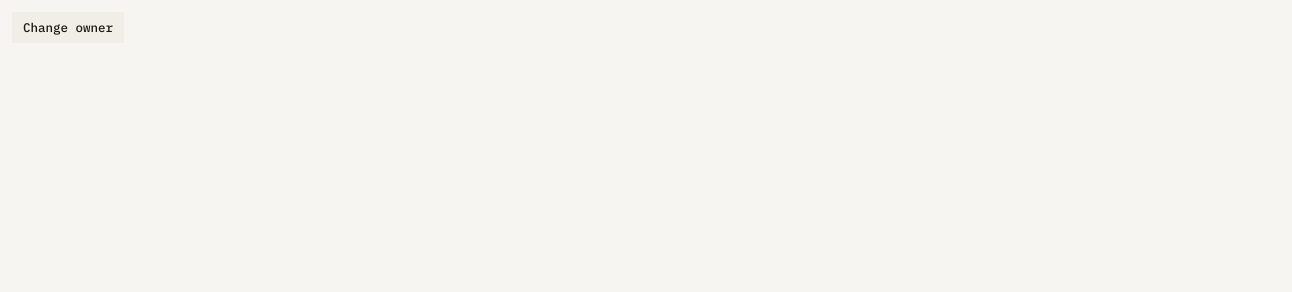
Test: the armed confirmation › disarms when the owner is changed underneath it
Step 1. Click the button "Change owner" → (68, 27), box [12,12,124,43]
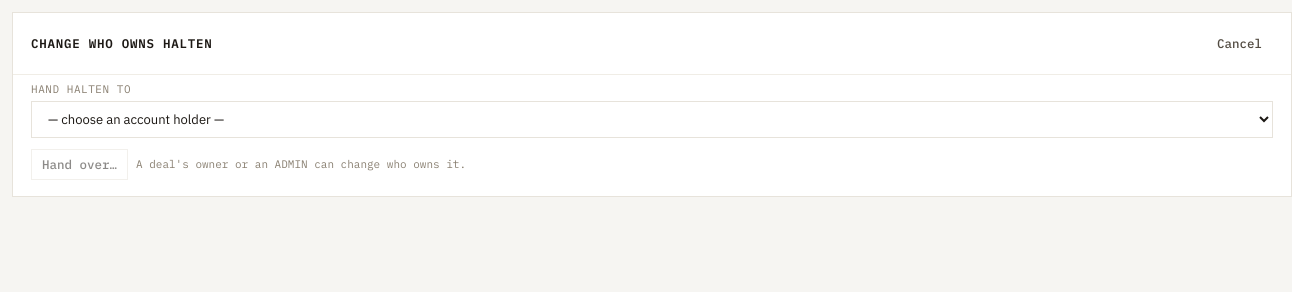
Step 2. Select "Pilot Partner" in the dropdown labelled "Hand Halten to" → (652, 120), box [31,101,1273,138]
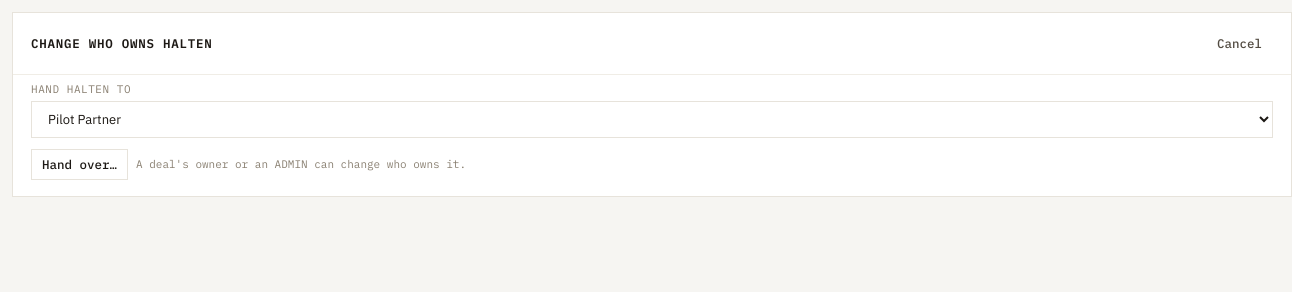
Step 3. Click the button "Hand over…" → (80, 165), box [31,149,128,180]
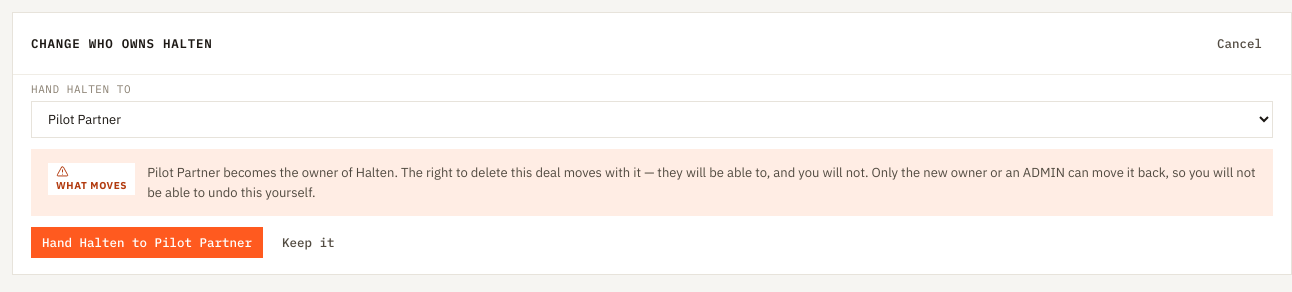
Step 4. Select "Pilot PM" in the dropdown labelled "Hand Halten to" → (652, 120), box [31,101,1273,138]
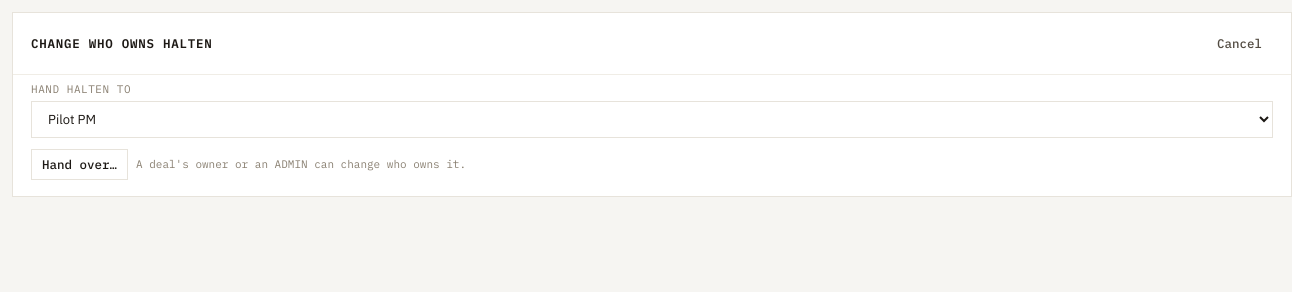
Expected: the button "Hand Halten to Pilot Partner" is gone
